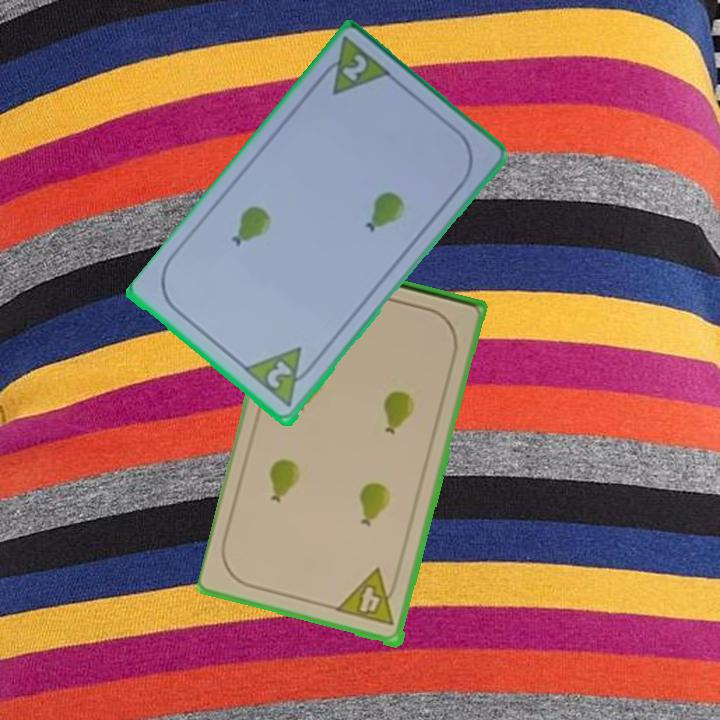2p: (263, 358, 295, 393), (338, 51, 370, 86)
4p: (335, 566, 403, 629)
